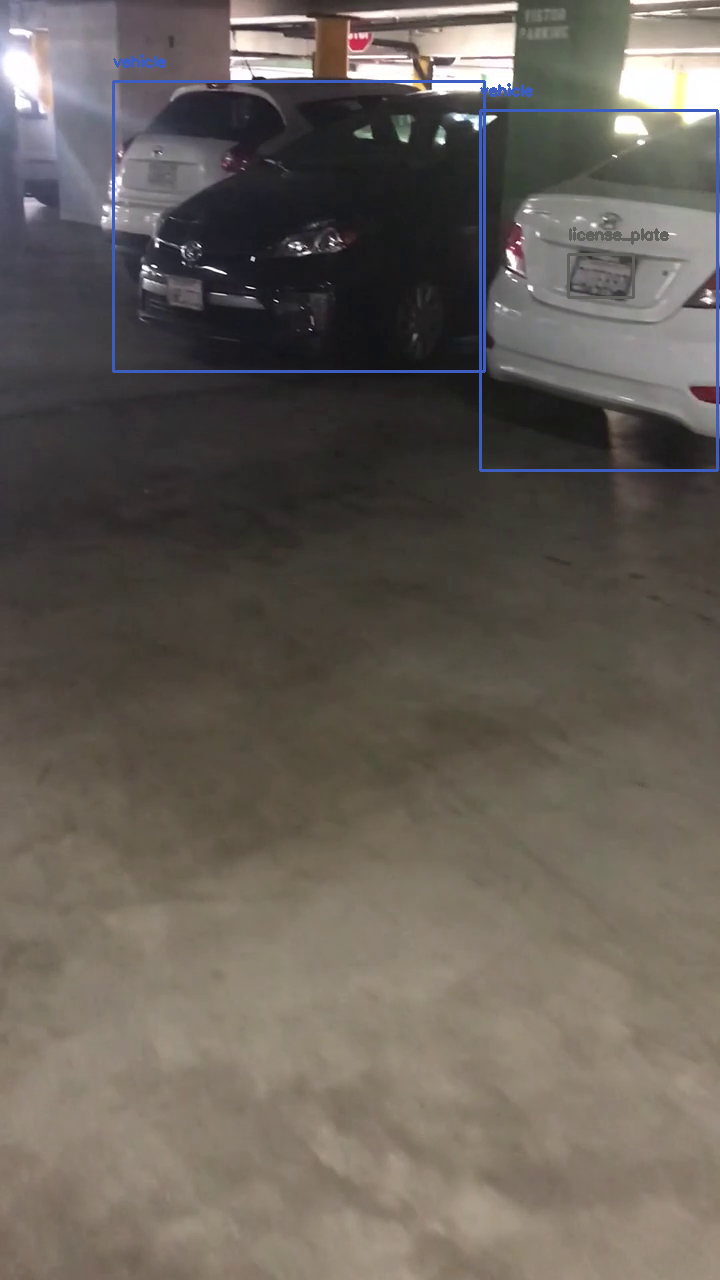license_plate: (568, 254, 633, 297)
vehicle: (113, 81, 484, 371), (480, 110, 717, 470)
